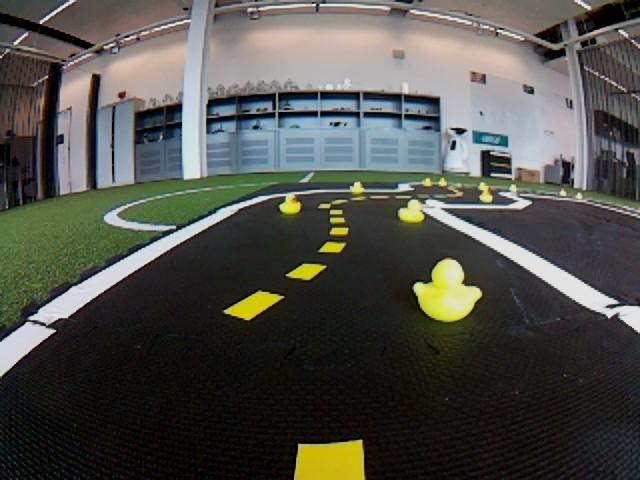Duckies: (414, 258, 482, 321), (398, 200, 424, 223), (279, 193, 302, 215), (479, 189, 494, 202), (349, 182, 364, 194), (422, 178, 432, 187), (509, 184, 518, 192), (438, 178, 447, 186), (477, 183, 487, 190), (559, 189, 567, 197), (576, 192, 583, 200)
